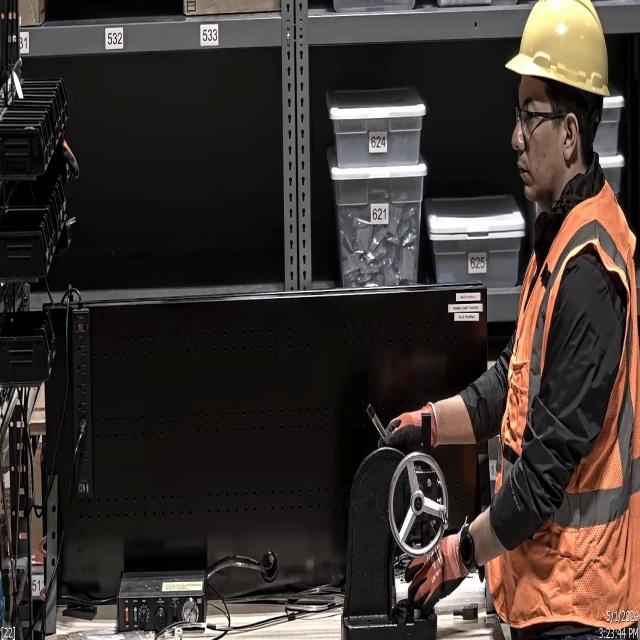gloves: (402, 529, 469, 626)
